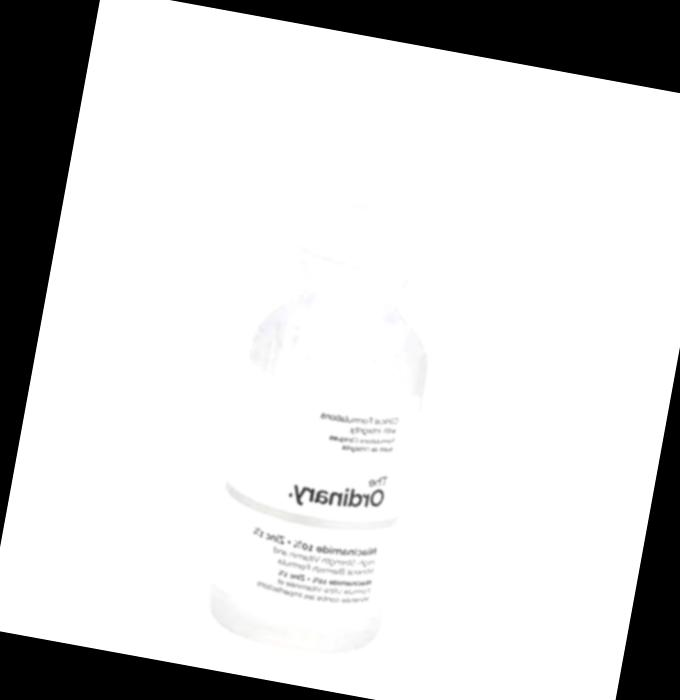cosmetic: (196, 77, 477, 663)
